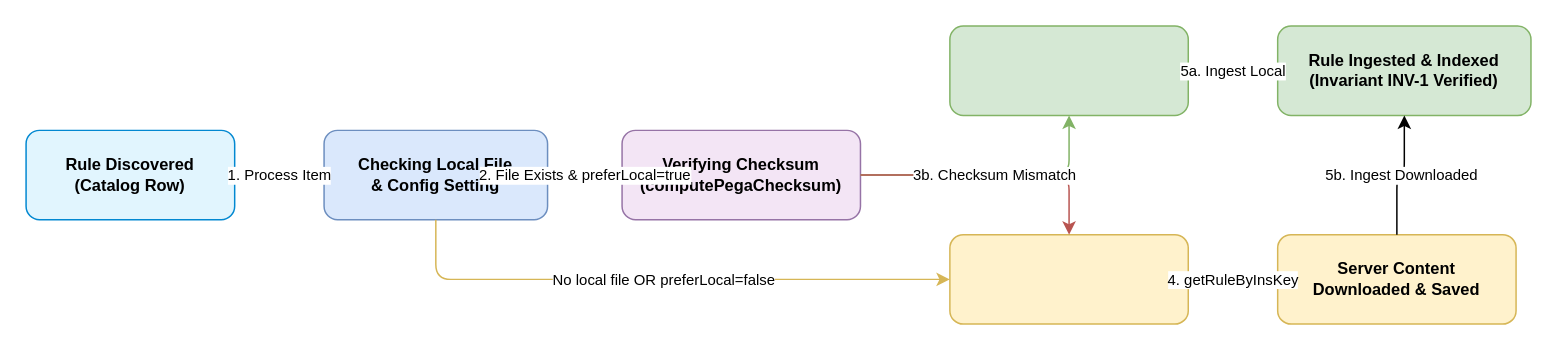
Some shapes in this 1557 by 350 pixel diagram are drawn without their labels. Here are the shapes that lost their labels. From the top down, the centre of each, then its label:
point (1068, 70): Local Content Served (Network Skipped)
point (1068, 278): Remote Fallback (Mismatch / Missing)
